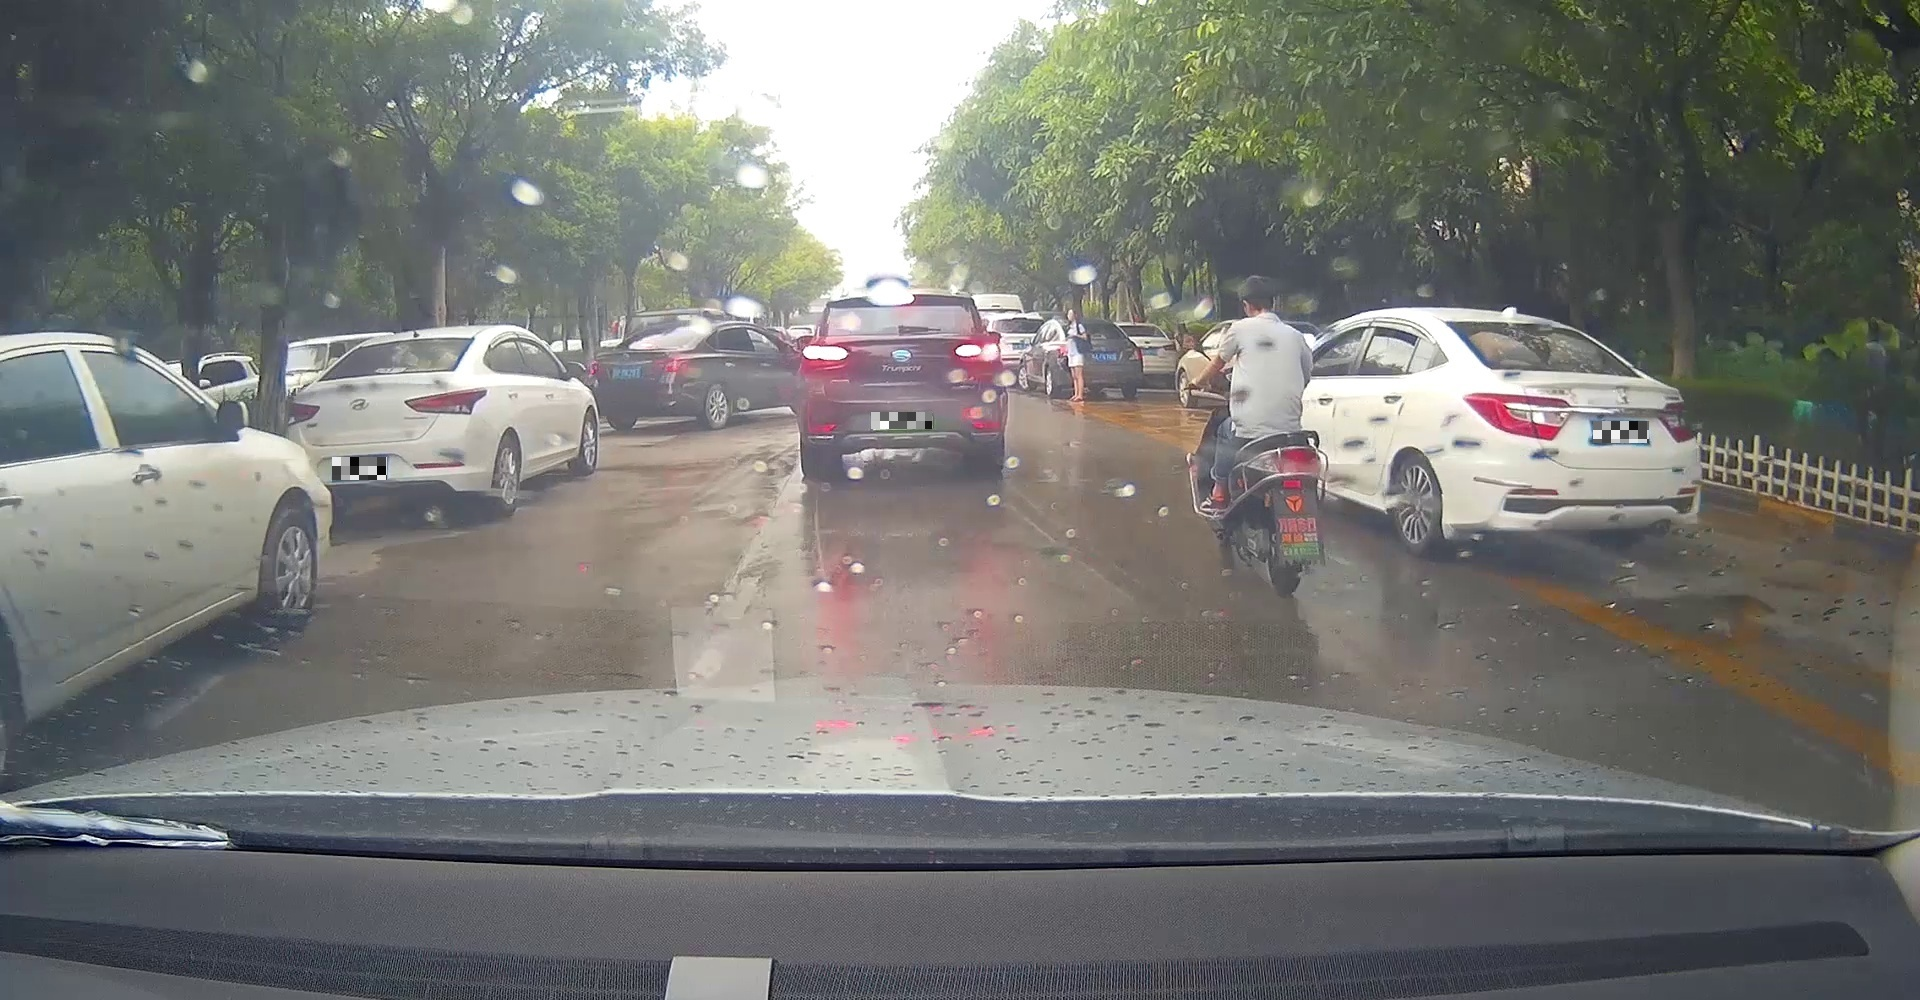L_light: (1462, 391, 1571, 442), (284, 400, 321, 428), (800, 344, 850, 362), (588, 360, 599, 376)
R_light: (404, 385, 488, 414), (1657, 401, 1697, 443), (955, 341, 1001, 360), (650, 353, 690, 374)
T_light: (871, 294, 914, 302), (1509, 324, 1549, 330), (375, 365, 408, 372), (627, 341, 653, 348)
day-brake: (795, 289, 1006, 480), (587, 313, 709, 429)
day-no: (1437, 315, 1702, 562), (283, 331, 491, 525)
plate_1: (331, 457, 387, 480)
plate_2: (871, 412, 932, 429)
plate_3: (1592, 421, 1650, 443)
